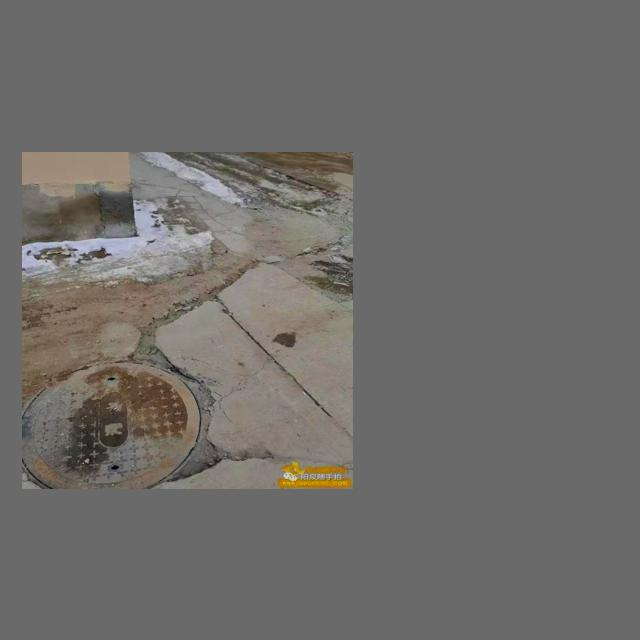circle: (25, 351, 258, 485)
